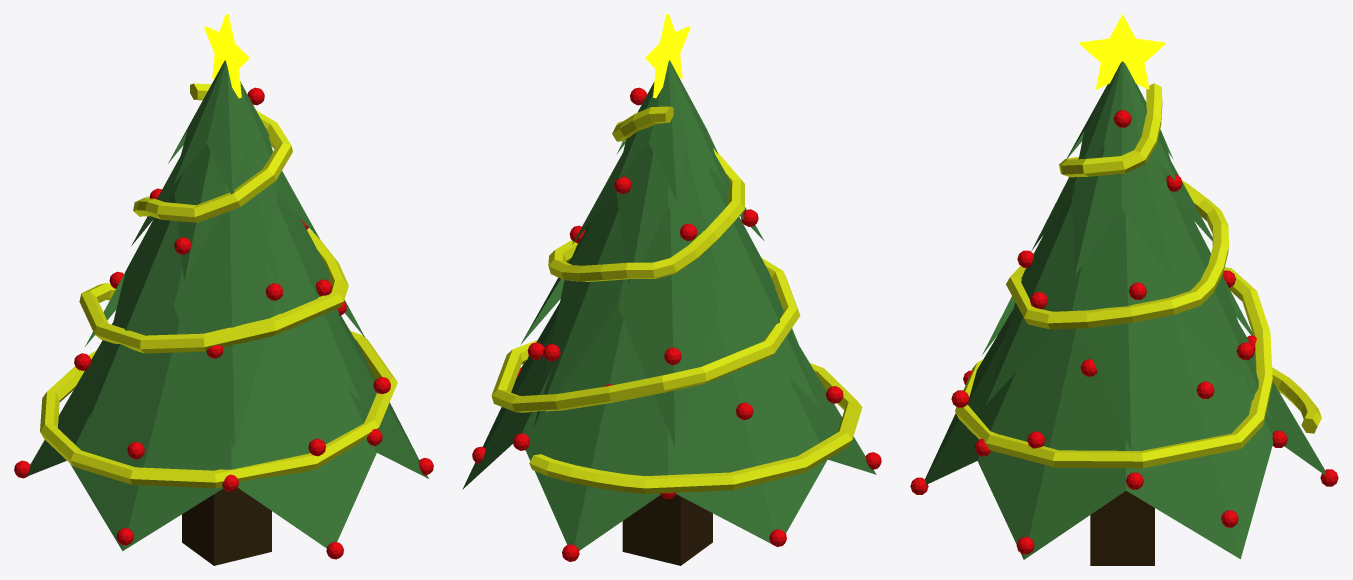
Rendered from xmastree.glb.
3 views of the same model, side by side, from view 1: azimuth 30°, elevation 25°; view 2: azimuth 150°, elevation 25°; view 3: azimuth 270°, elevation 25° (orthographic).
Visible parts, largest first — view 1: xmastree; view 2: xmastree; view 3: xmastree.
Part boxes in pixels (box(x1,y1,x2,y2)): xmastree: box(14, 14, 433, 565); xmastree: box(462, 14, 881, 565); xmastree: box(910, 14, 1338, 565).
Bounding box in the file's own units: 8.39 × 13.03 × 9.41.
